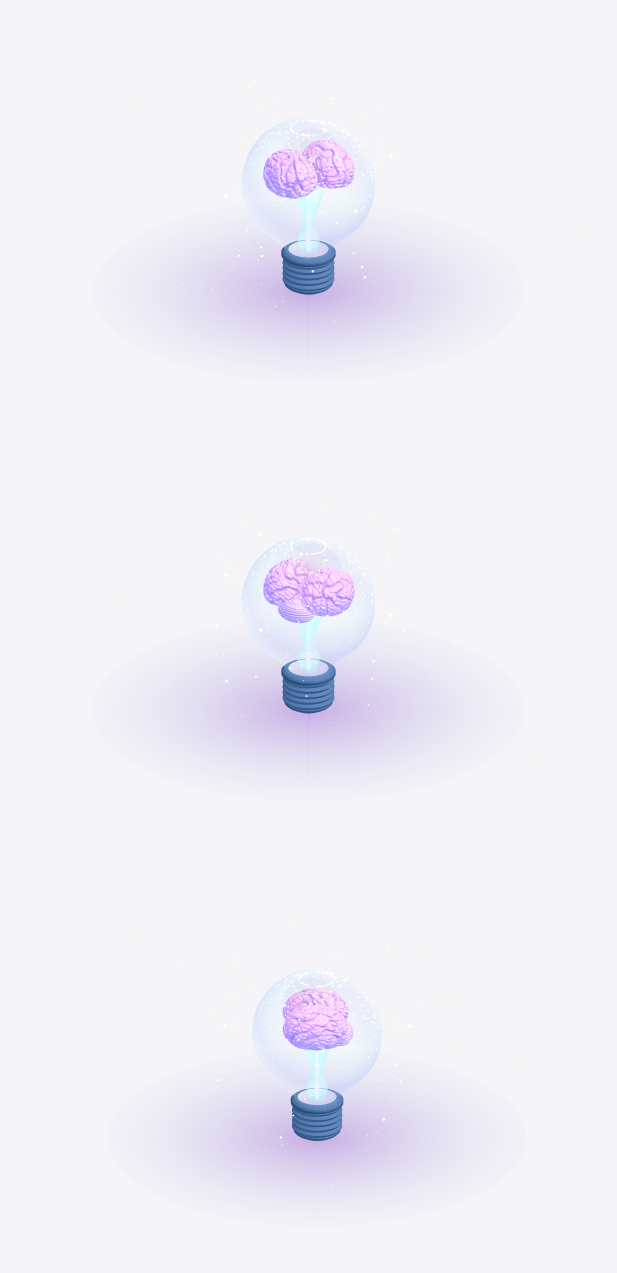
Rendered from tech_bulb_brain.glb.
3 renders of one model, top to bottom at view 1: azimuth 30°, elevation 25°; view 2: azimuth 150°, elevation 25°; view 3: azimuth 270°, elevation 25°, orthographic. The views are drawn at different scales.
Visible parts, largest first — view 1: FloorGlow, GlassBulb, Brain, MetalBase, StemGlass, CircuitPads; view 2: FloorGlow, GlassBulb, Brain, MetalBase, StemGlass, CircuitPads; view 3: FloorGlow, GlassBulb, Brain, MetalBase, StemGlass, CircuitPads.
Boxes of the visible parts, x1,y1,x2,y2 form: FloorGlow: (177, 238, 439, 353); GlassBulb: (242, 117, 374, 258); Brain: (263, 140, 354, 198); MetalBase: (281, 240, 335, 294); StemGlass: (295, 185, 323, 254); CircuitPads: (246, 118, 372, 218); FloorGlow: (177, 657, 439, 772); GlassBulb: (242, 535, 374, 677); Brain: (263, 558, 354, 623); MetalBase: (281, 659, 335, 713); StemGlass: (297, 615, 321, 673); CircuitPads: (244, 537, 373, 648); FloorGlow: (190, 1086, 444, 1191); GlassBulb: (252, 968, 381, 1106); Brain: (282, 987, 353, 1050); MetalBase: (290, 1088, 343, 1140); StemGlass: (305, 1049, 329, 1101); CircuitPads: (254, 970, 379, 1072).
Bounding box in the file's own units: 8.8 × 3.47 × 9.06.
